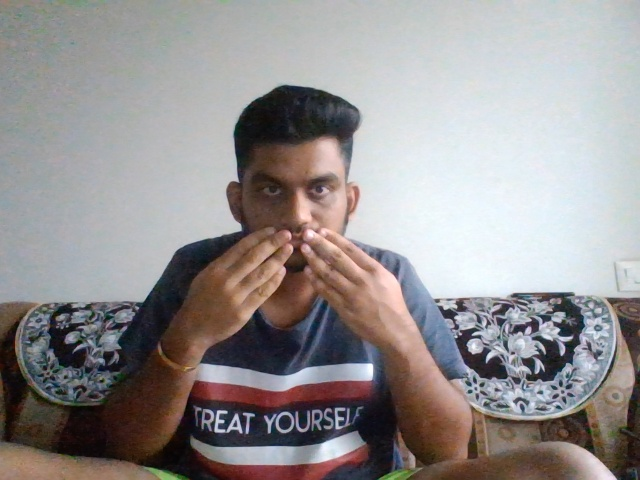Thank You: (160, 229, 435, 345)
